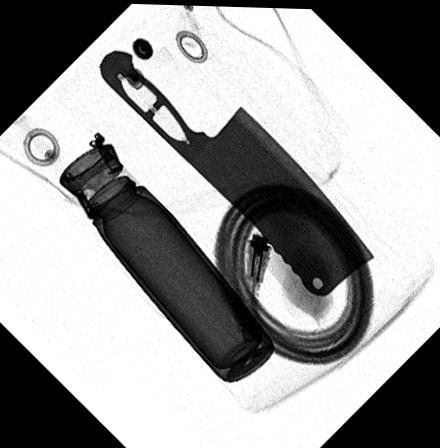Knife: (98, 49, 374, 295)
